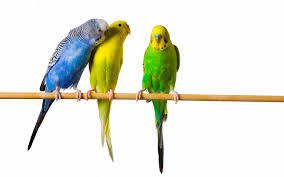budgie: (17, 17, 110, 151), (136, 24, 183, 177), (92, 19, 131, 159)
